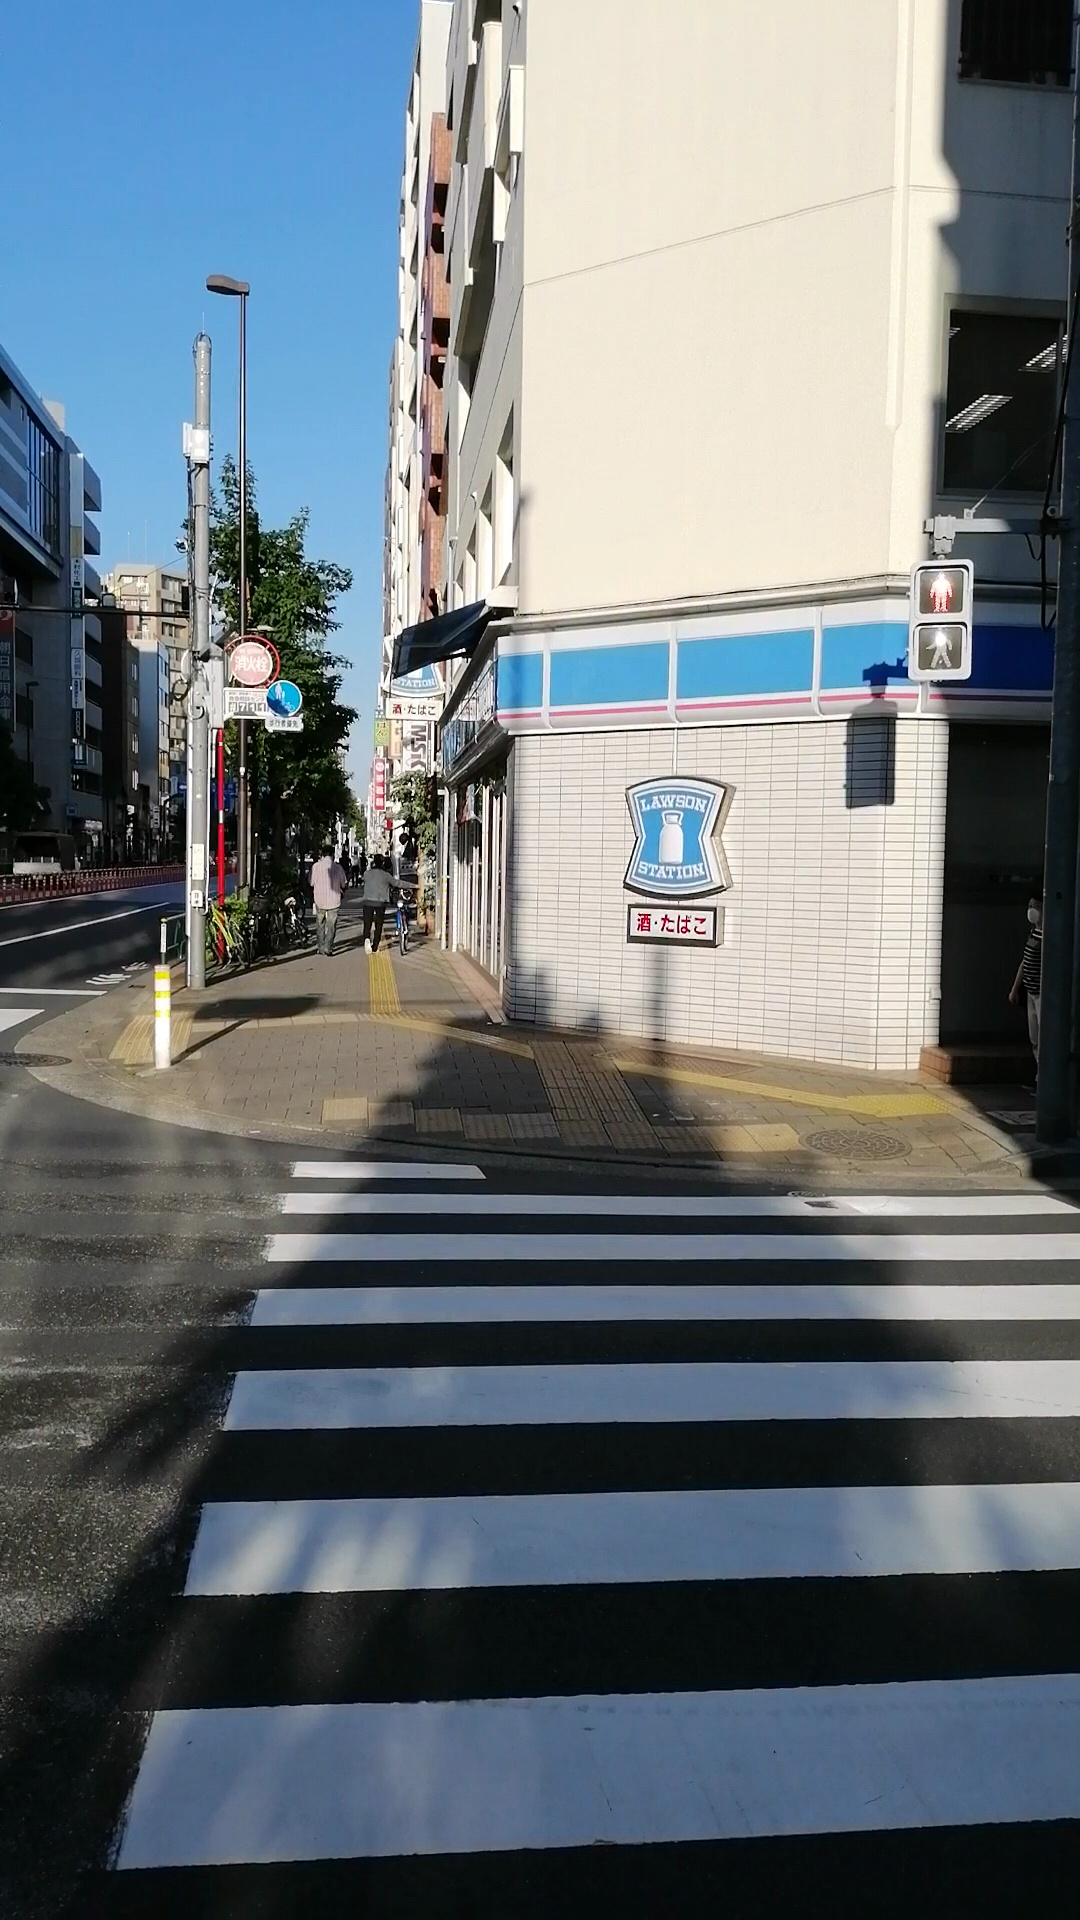red: (907, 556, 972, 683)
